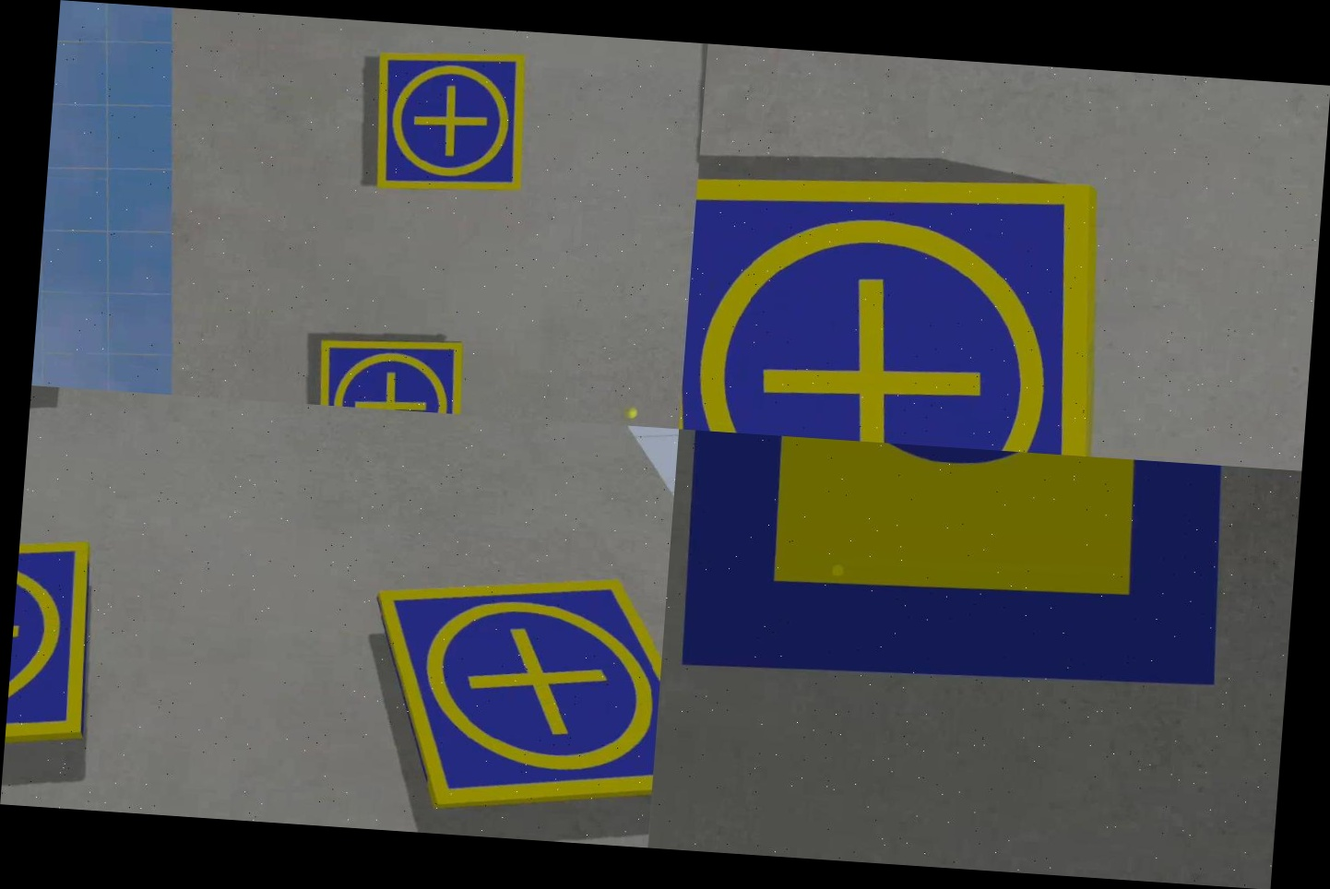large_base: (663, 429, 1232, 706)
small_base: (679, 153, 1113, 456), (362, 561, 668, 834), (365, 43, 533, 201), (3, 533, 106, 775), (315, 331, 469, 415)
